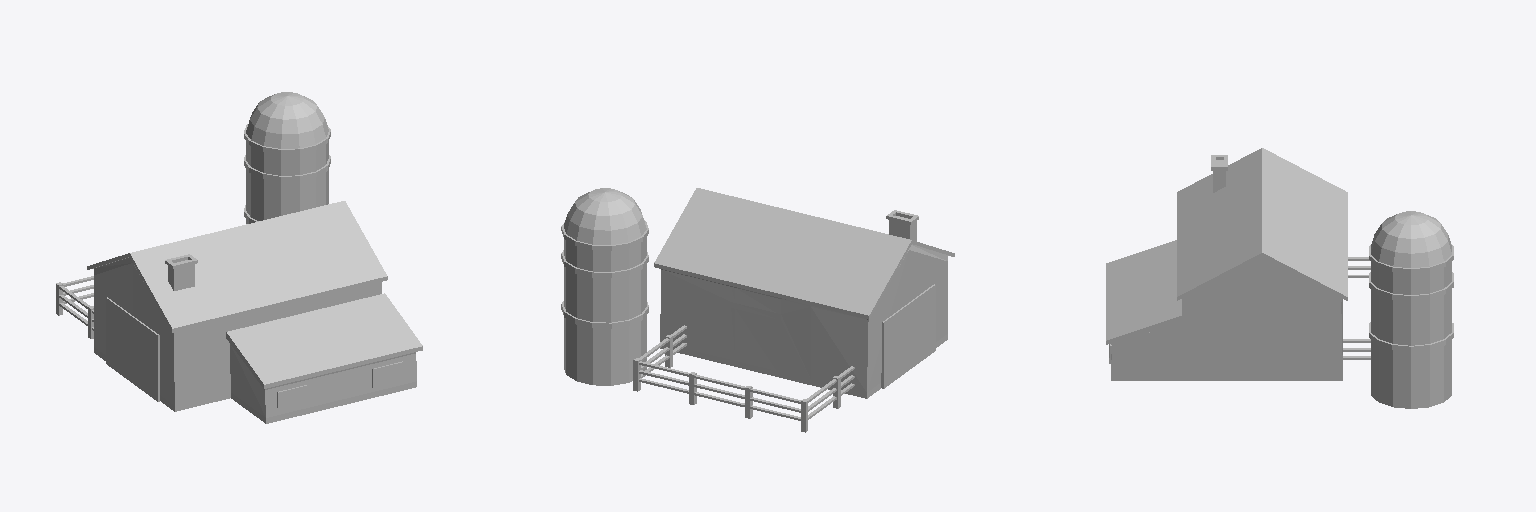
The model's file is 1267 Farm.obj.
3 views of the same model, side by side, from view 1: azimuth 30°, elevation 25°; view 2: azimuth 150°, elevation 25°; view 3: azimuth 270°, elevation 25° (orthographic).
Parts seen in each view (by area): view 1: Farm; view 2: Farm; view 3: Farm.
Boxes of the visible parts, box(x1,y1,x2,y2) form: Farm: box(56, 92, 422, 423); Farm: box(561, 188, 954, 432); Farm: box(1106, 148, 1453, 408).
Size of the model in its own units: 194 by 121 by 216.